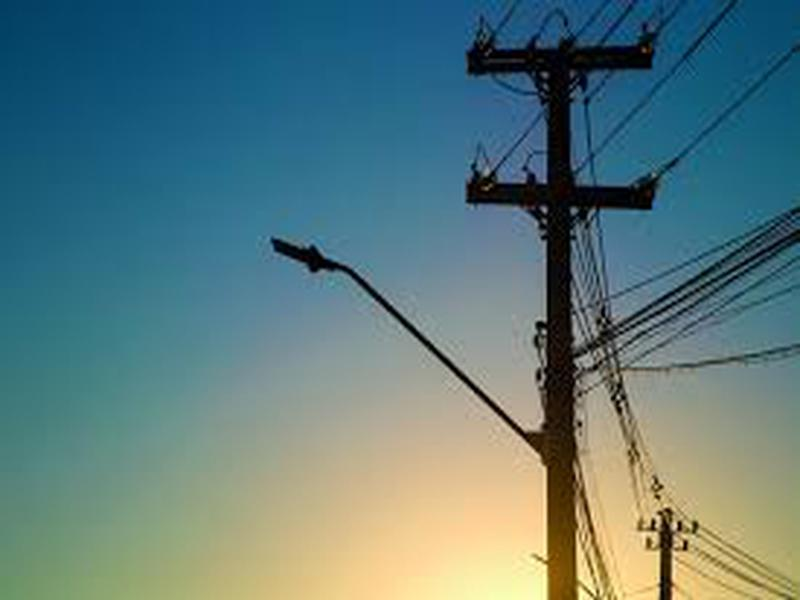IP: (262, 223, 532, 441)
